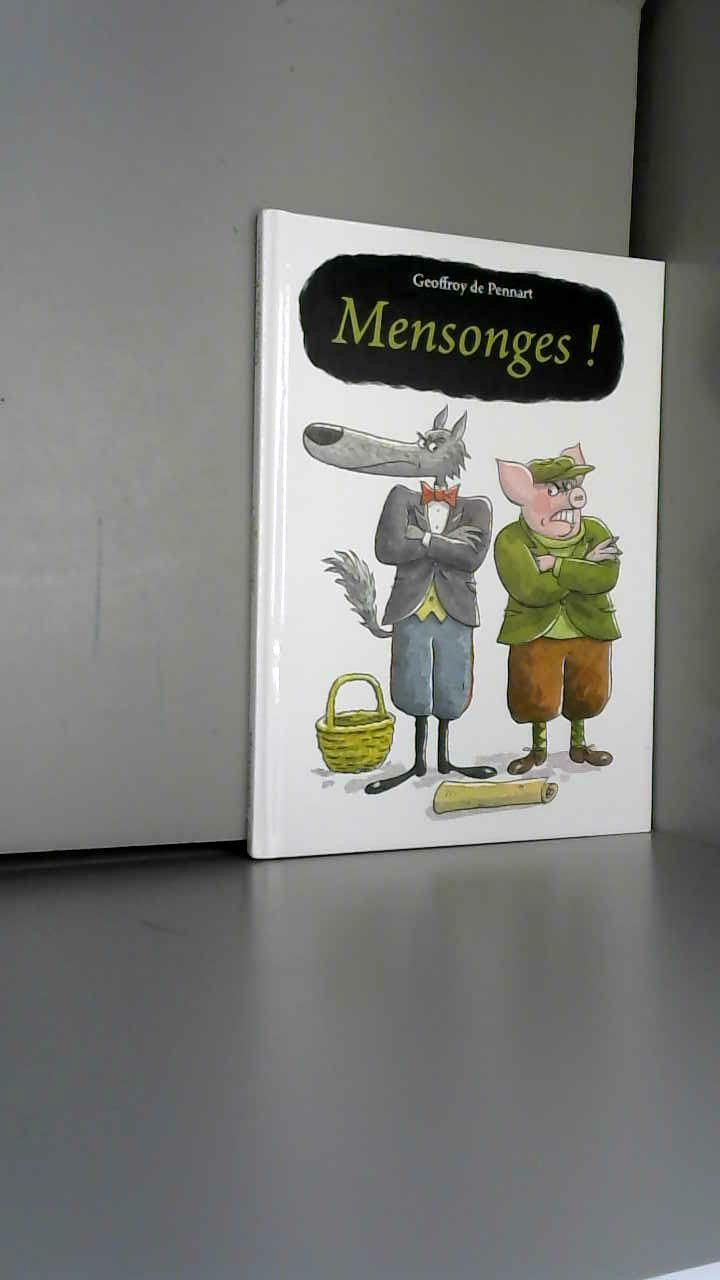book: (230, 180, 720, 901)
